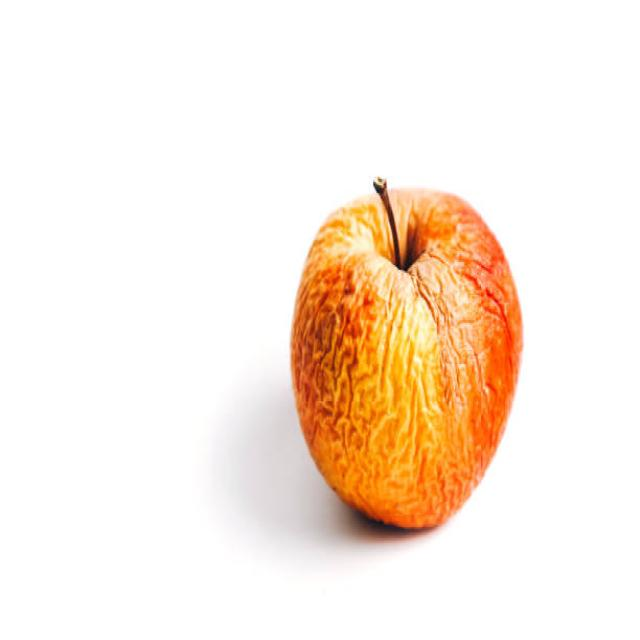overripe: (286, 172, 526, 537)
